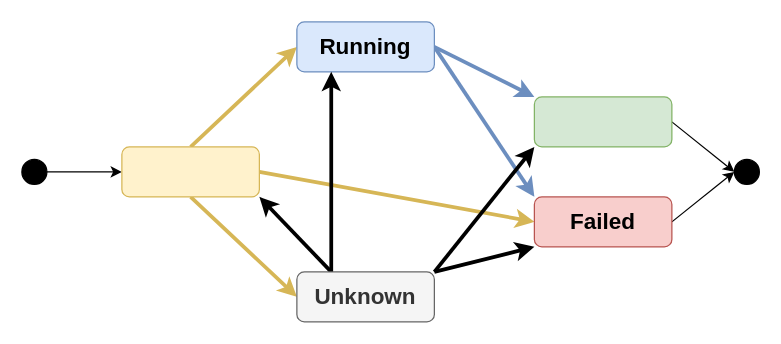
The diagram is 781 pixels wide and 344 high, and some of its shapes have lost their labels. The shapes that lost their labels are listed below. From the top down, each one's centre as x and y in pixels, then its label:
point (602, 121): Succeeded
point (190, 171): Pending
